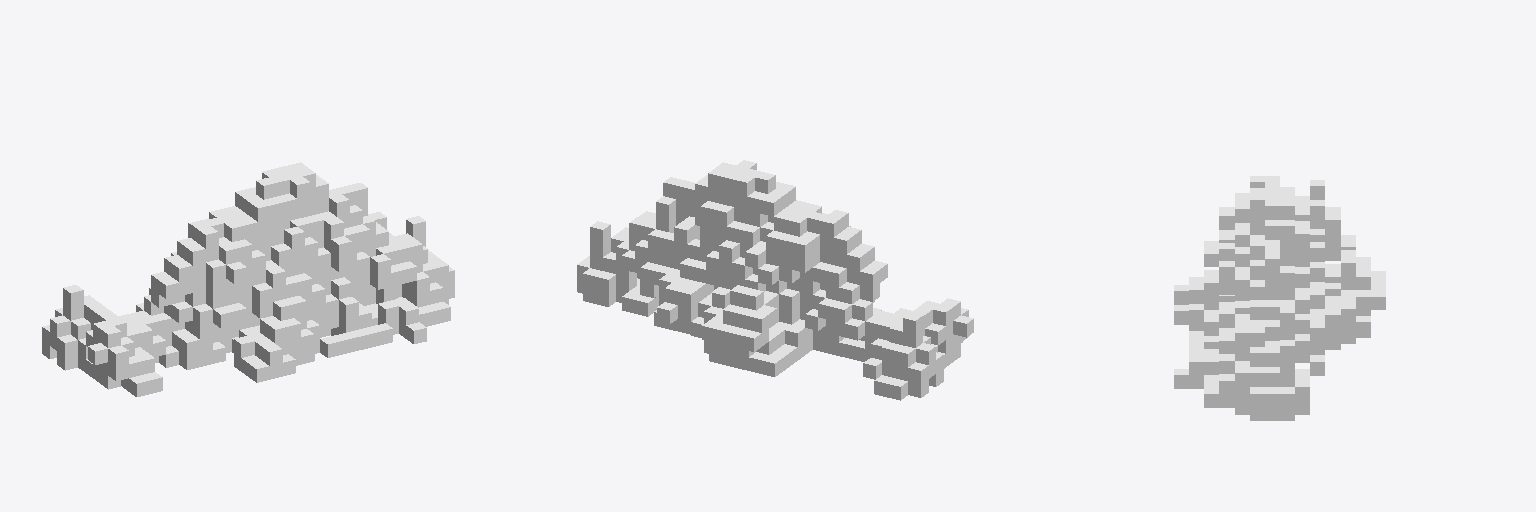
Rendered from fish.obj.
3 views of the same model, side by side, from view 1: azimuth 30°, elevation 25°; view 2: azimuth 150°, elevation 25°; view 3: azimuth 270°, elevation 25° (orthographic).
Parts seen in each view (by area): view 1: object 1; view 2: object 1; view 3: object 1.
Part boxes in pixels (x1,y1,x2,y2): object 1: (42, 162, 454, 396); object 1: (577, 160, 973, 400); object 1: (1174, 176, 1385, 420).
Size of the model in its own units: 2.8 by 1.1 by 1.4.